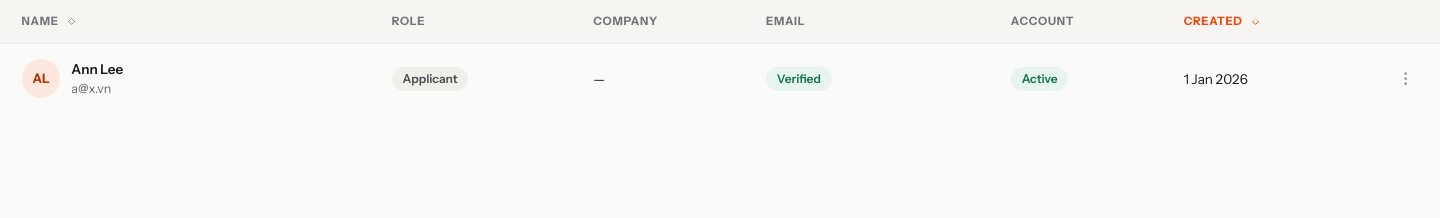
Test: Users table row menu by status › hides Suspend on the signed-in administrator's own row
Click the button named "Actions for Ann Lee" at (1405, 79), box [1388, 62, 1423, 96]
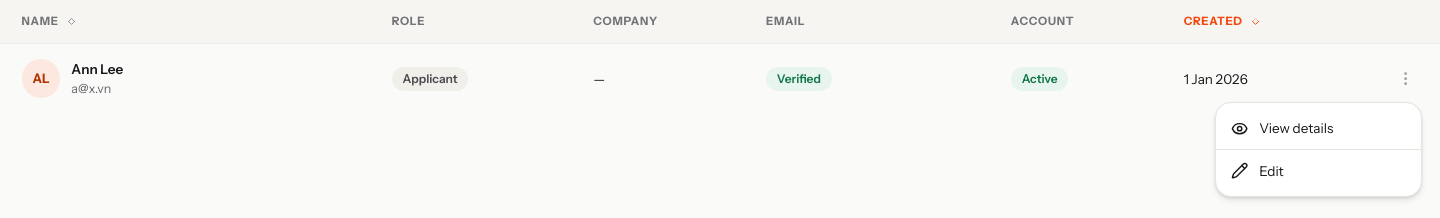
Expected: the menu item "Edit" is shown, [1216, 149, 1421, 192]
